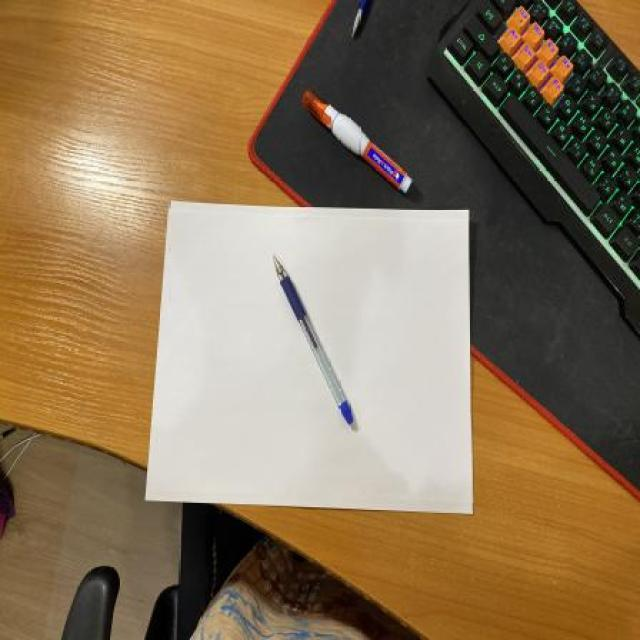pen: (272, 254, 355, 426)
